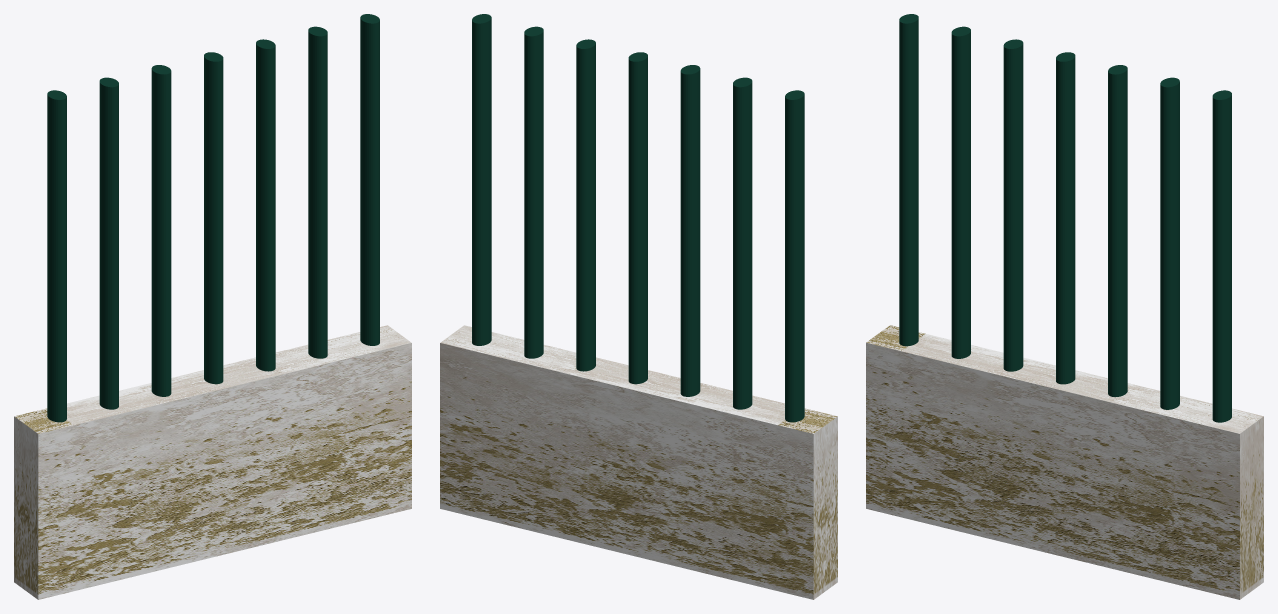
Rendered from fence.fbx.
3 renders of one model, left to right at view 1: azimuth 30°, elevation 25°; view 2: azimuth 150°, elevation 25°; view 3: azimuth 330°, elevation 25°, orthographic.
Visible parts, largest first — view 1: Cube.016, Cylinder.094, Cylinder.093, Cylinder.096, Cylinder.092, Cylinder.095, Cylinder.097, Cylinder.098; view 2: Cube.016, Cylinder.094, Cylinder.093, Cylinder.096, Cylinder.092, Cylinder.095, Cylinder.097, Cylinder.098; view 3: Cube.016, Cylinder.094, Cylinder.095, Cylinder.097, Cylinder.098, Cylinder.092, Cylinder.093, Cylinder.096.
Boxes of the visible parts, box(x1,y1,x2,y2) form: Cube.016: box(14, 325, 411, 599); Cylinder.094: box(151, 65, 171, 396); Cylinder.093: box(99, 77, 118, 409); Cylinder.096: box(256, 39, 275, 371); Cylinder.092: box(47, 90, 66, 422); Cylinder.095: box(204, 52, 223, 384); Cylinder.097: box(308, 26, 327, 358); Cylinder.098: box(360, 14, 379, 345); Cube.016: box(440, 325, 837, 599); Cylinder.094: box(680, 65, 700, 396); Cylinder.093: box(733, 77, 752, 409); Cylinder.096: box(576, 39, 595, 371); Cylinder.092: box(785, 90, 804, 422); Cylinder.095: box(628, 52, 647, 384); Cylinder.097: box(524, 26, 543, 358); Cylinder.098: box(472, 14, 491, 345); Cube.016: box(866, 325, 1263, 599); Cylinder.094: box(1003, 39, 1023, 371); Cylinder.095: box(1056, 52, 1075, 384); Cylinder.097: box(1160, 77, 1179, 409); Cylinder.098: box(1212, 90, 1231, 422); Cylinder.092: box(899, 14, 918, 346); Cylinder.093: box(951, 26, 970, 358); Cylinder.096: box(1108, 65, 1127, 397).
Bounding box in the file's own units: 716 × 895 × 80.
